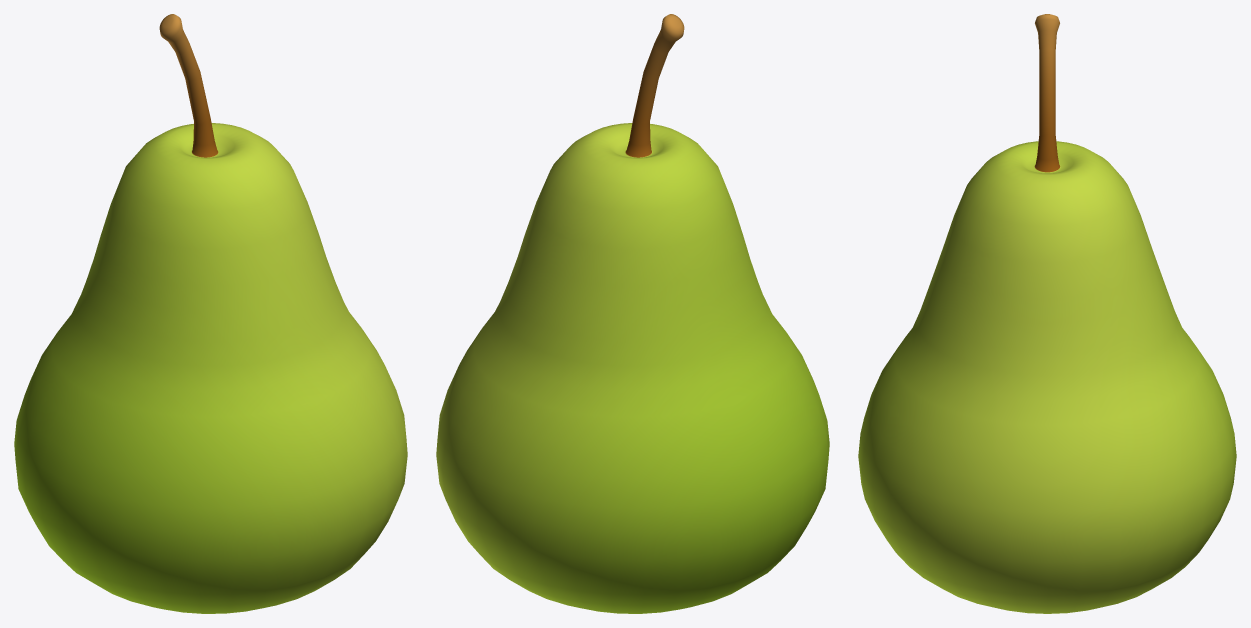
File: Pear.fbx
3 views of the same model, side by side, from view 1: azimuth 30°, elevation 25°; view 2: azimuth 150°, elevation 25°; view 3: azimuth 270°, elevation 25° (orthographic). The views are drawn at different scales.
Visible parts, largest first — view 1: Pear; view 2: Pear; view 3: Pear.
Boxes of the visible parts, x1=… form: Pear: x1=14, y1=14, x2=407, y2=613; Pear: x1=436, y1=14, x2=829, y2=613; Pear: x1=858, y1=14, x2=1236, y2=613.
Size of the model in its own units: 10.49 by 16.93 by 10.49.
